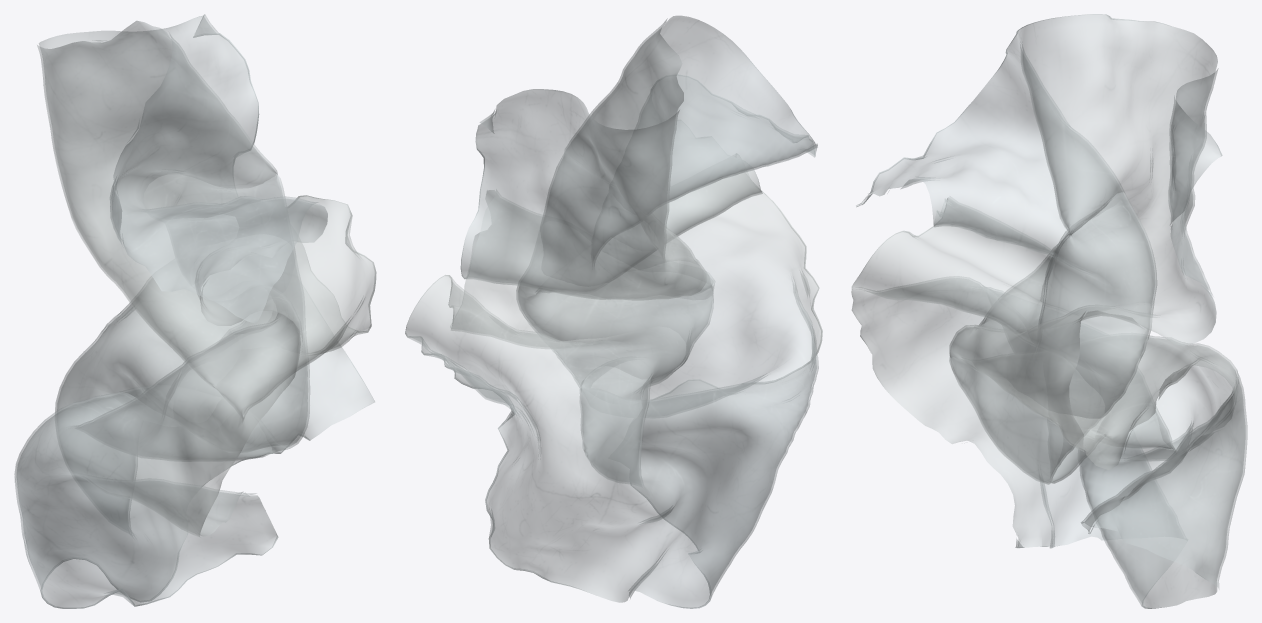
File: zaves.glb
3 views of the same model, side by side, from view 1: azimuth 30°, elevation 25°; view 2: azimuth 150°, elevation 25°; view 3: azimuth 270°, elevation 25° (orthographic). The views are drawn at different scales.
Parts seen in each view (by area): view 1: folie; view 2: folie; view 3: folie.
Part boxes in pixels (box(x1,y1,x2,y2)): folie: box(14, 14, 376, 608); folie: box(405, 15, 822, 608); folie: box(851, 14, 1247, 608).
Size of the model in its own units: 0.5081 by 0.8231 by 0.5107.
1 material, 1 textured.
